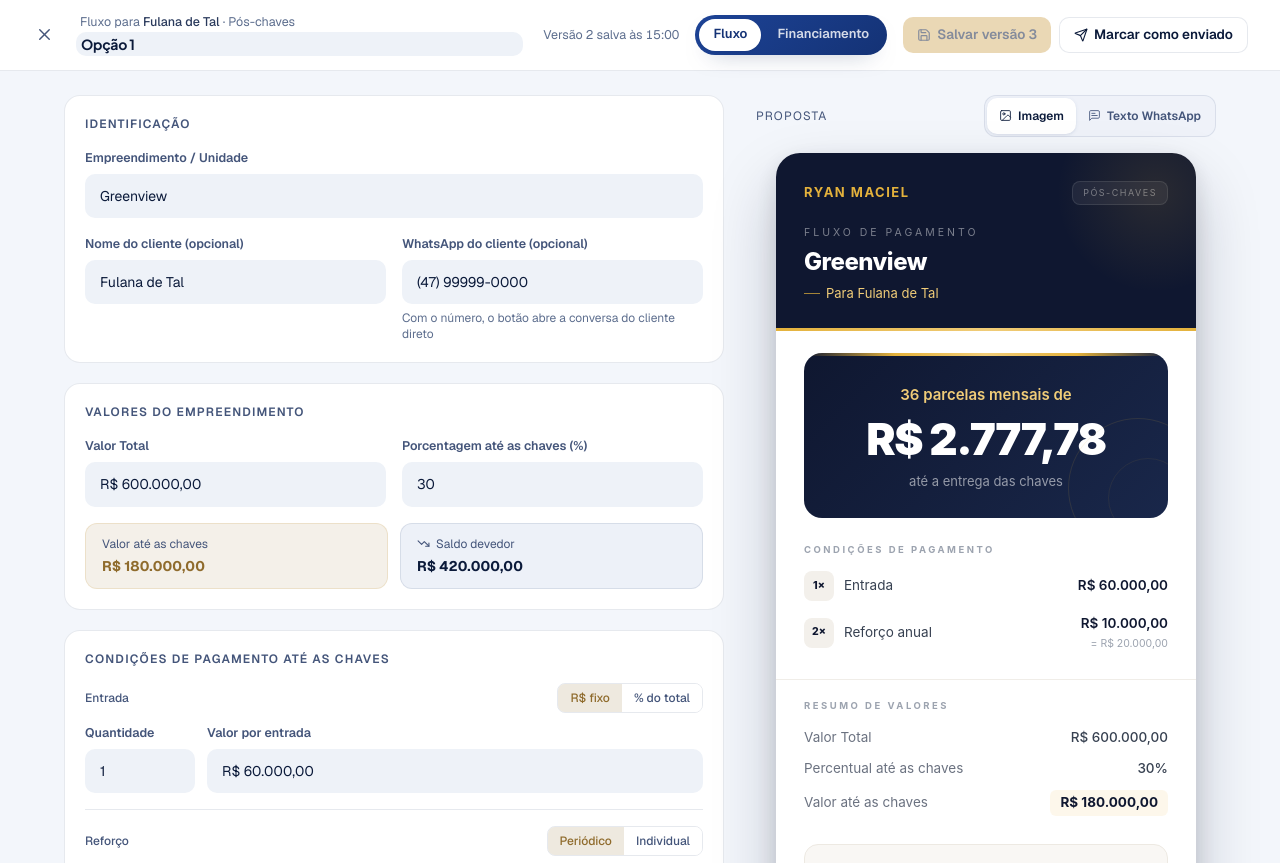
simulador aberto pelo lead › editar um fluxo salvo grava a versão seguinte do MESMO fluxo, com os mesmos dados
Expected: the button "Salvar versão 3" is disabled, [903,17,1051,53]
Replace the text in the field named "Nome do fluxo" with "Opção 1 — entrada maior" at point(300, 44), box [76,32,523,56]
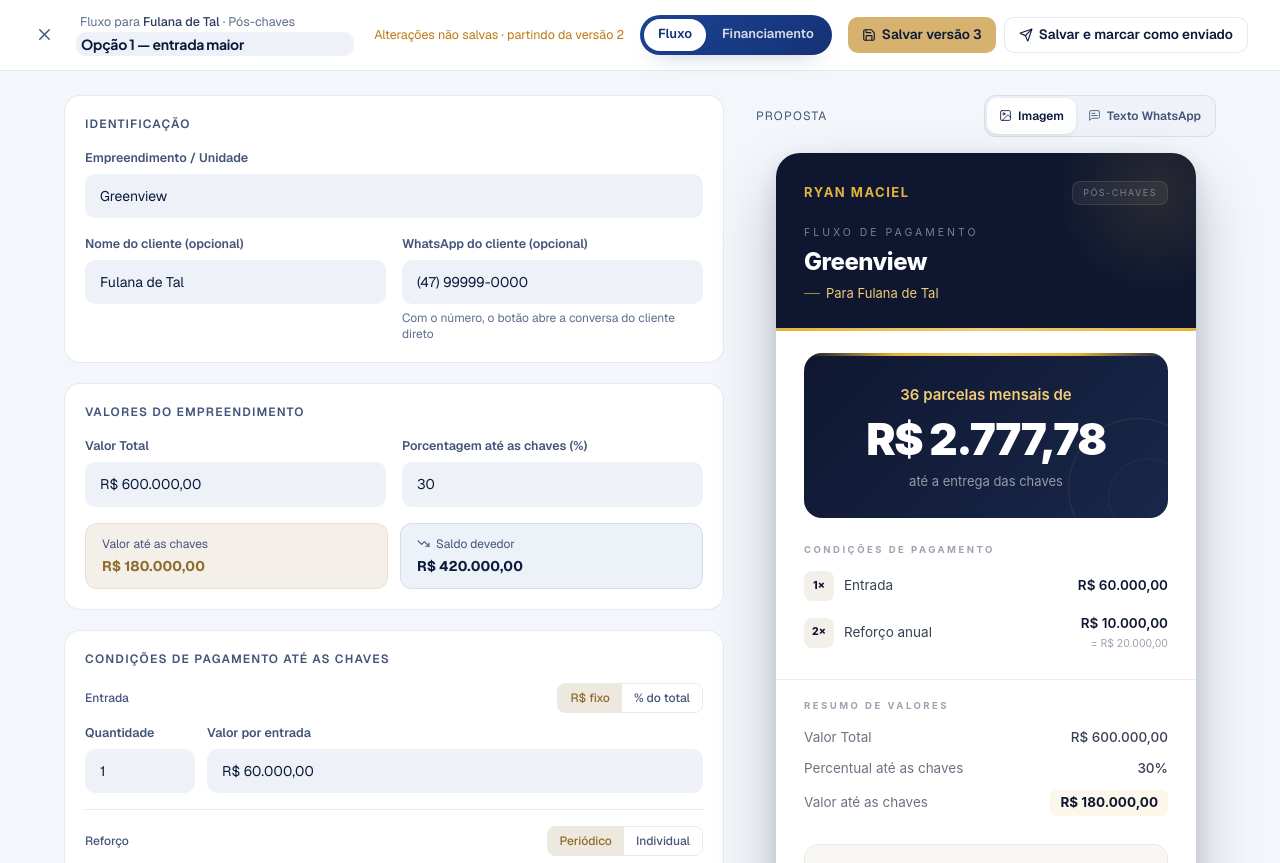
Expected: the button "Salvar versão 3" is enabled
Click the button "Salvar versão 3" at point(922, 35), box [848,17,996,53]
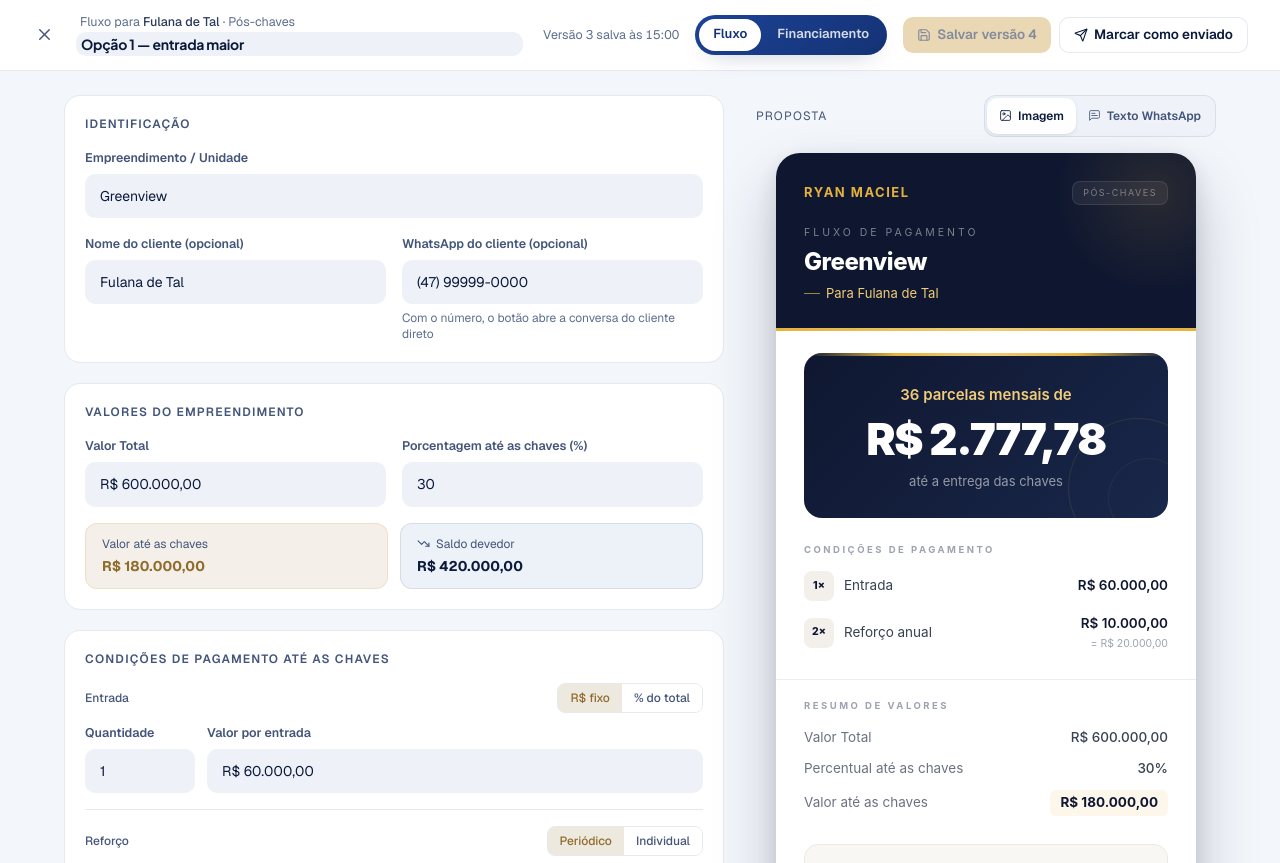
Expected: the button "Salvar versão 4" is disabled, [903,17,1051,53]
